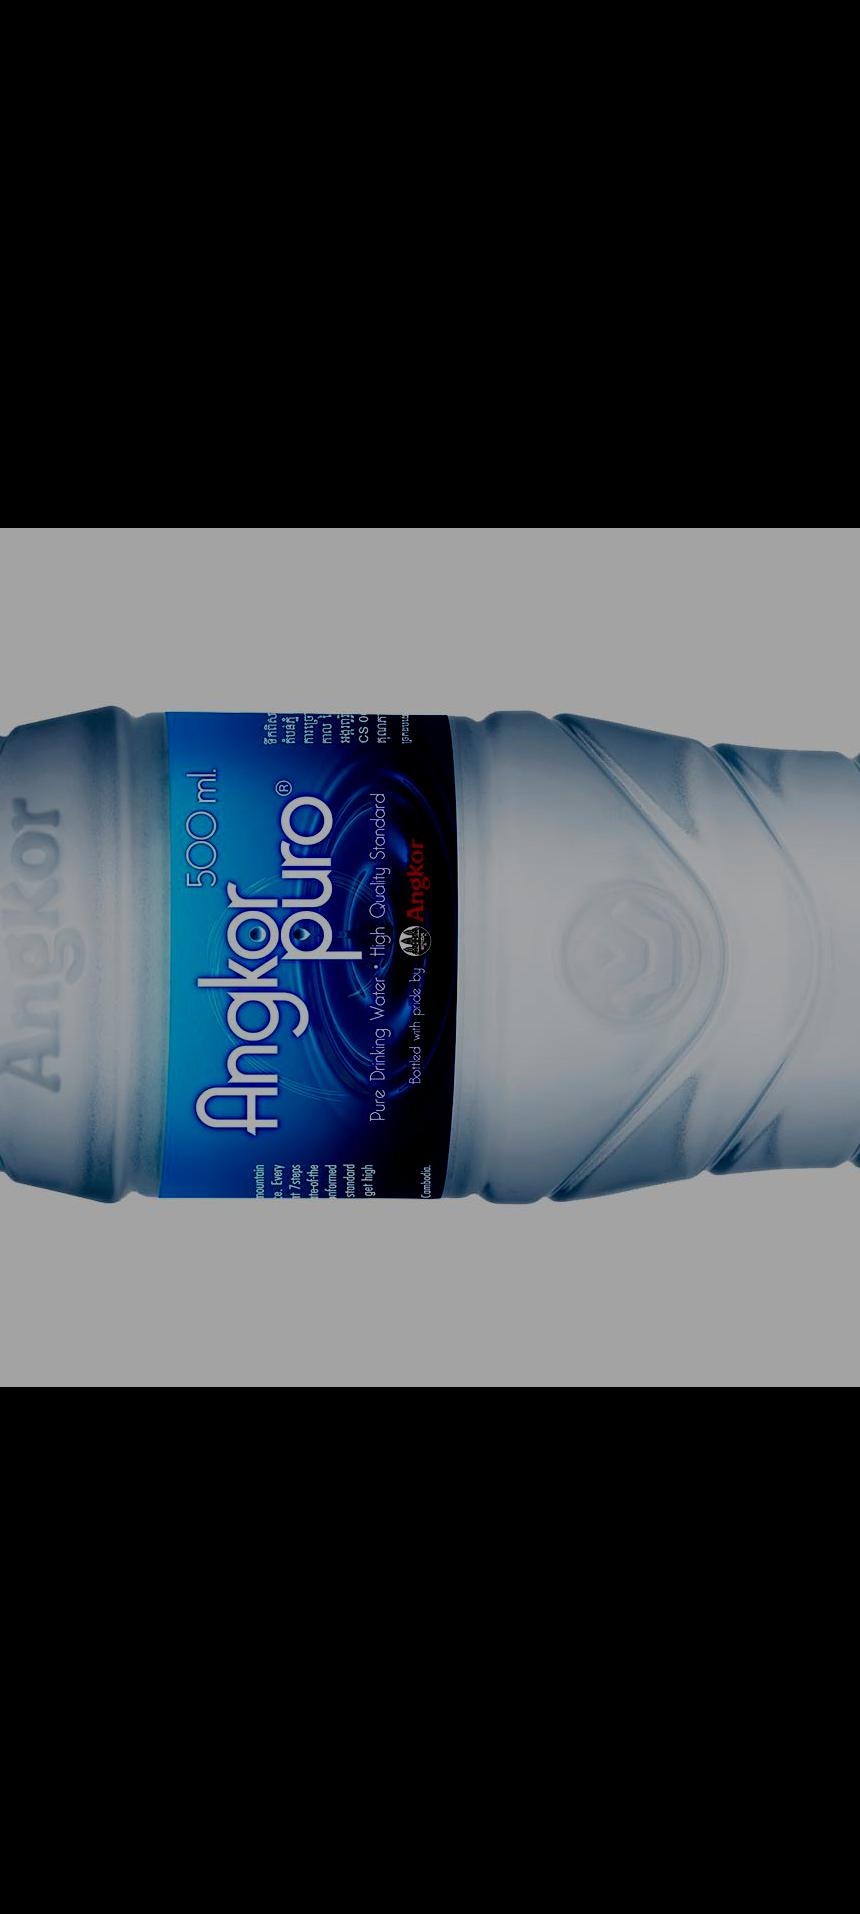bottle: (0, 701, 860, 1208)
